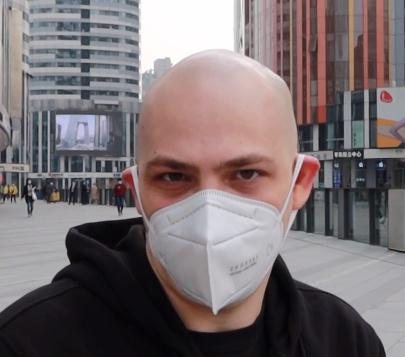OK: (140, 125, 287, 309)
